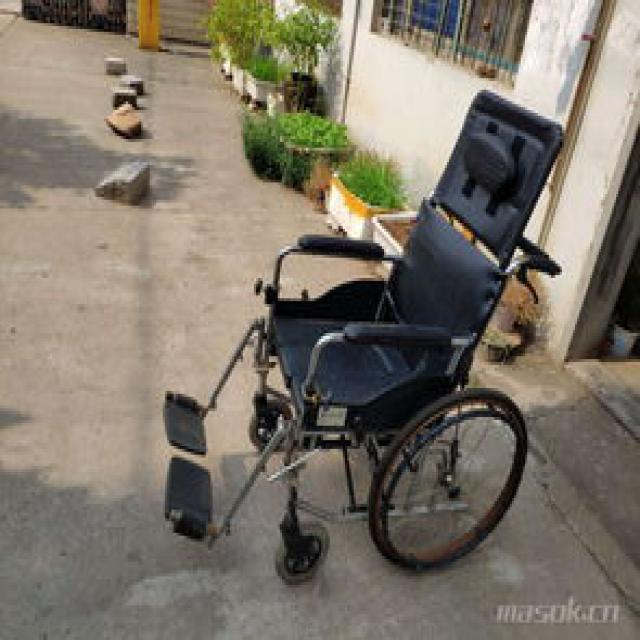wheelchair: (154, 75, 588, 637)
